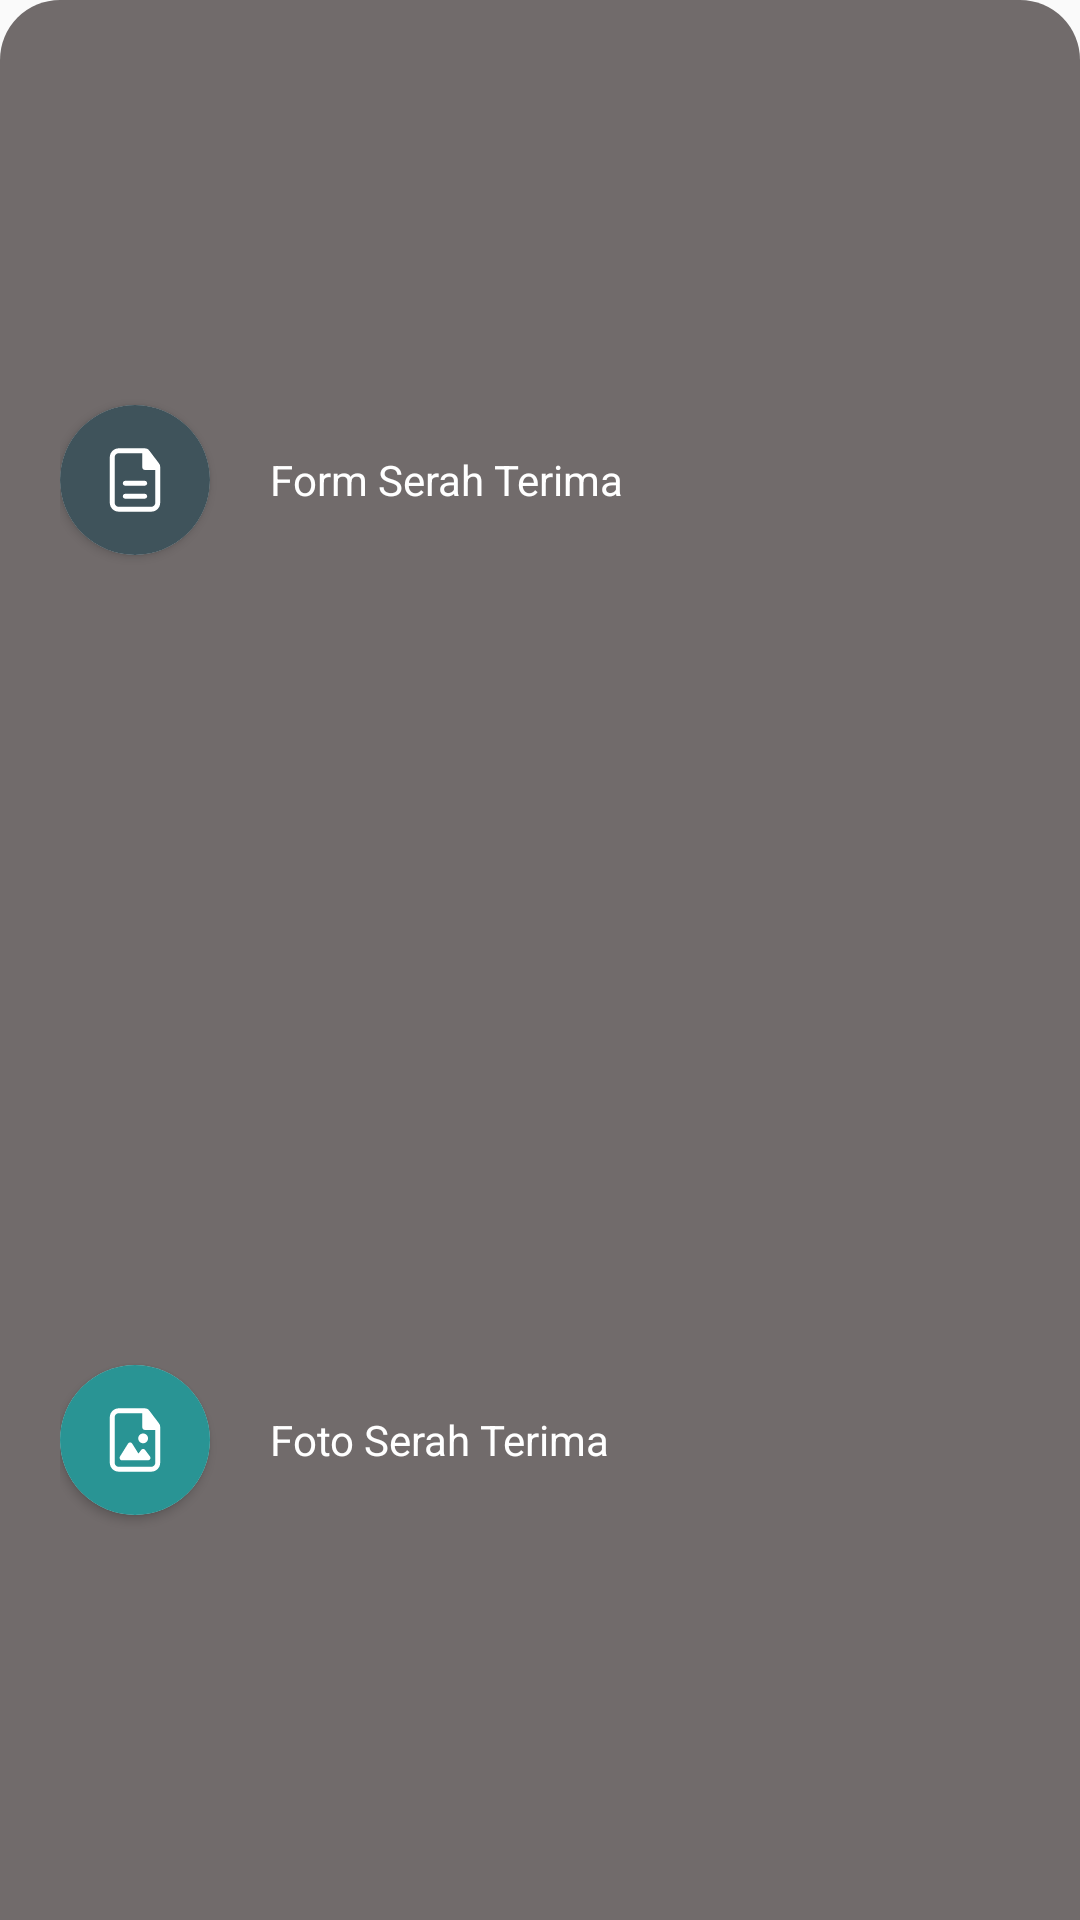

Named icons in this screenshot (1080px x 1920px) and their centers, point (x, y):
dokumentasi: point (135, 1440)
